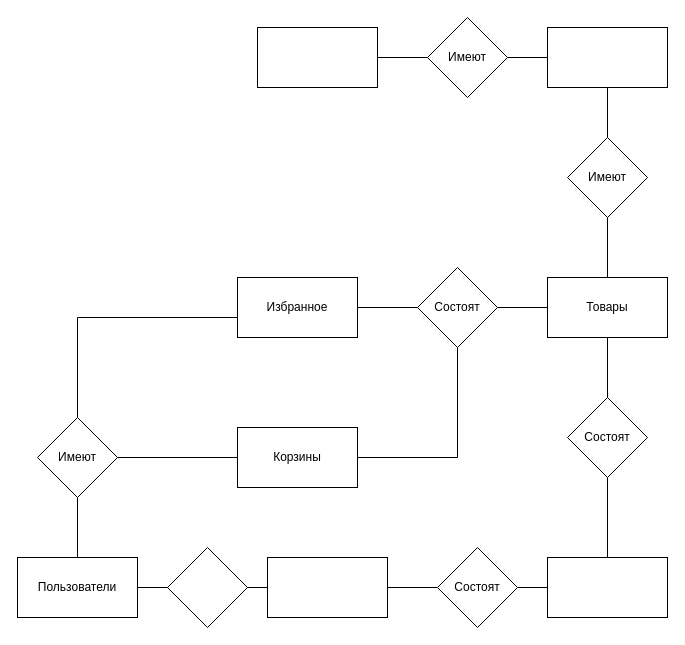
Image size: 685x645. Some labels were removed from this diagram. The shapes that lost their labels are listed below. From the top down, each one's centre as x and y in pixels, then its label:
pixel 317 57: Категории
pixel 607 57: Фотографии товаров
pixel 207 587: Оформляют
pixel 327 587: Заказы
pixel 607 587: Заказы товаров
